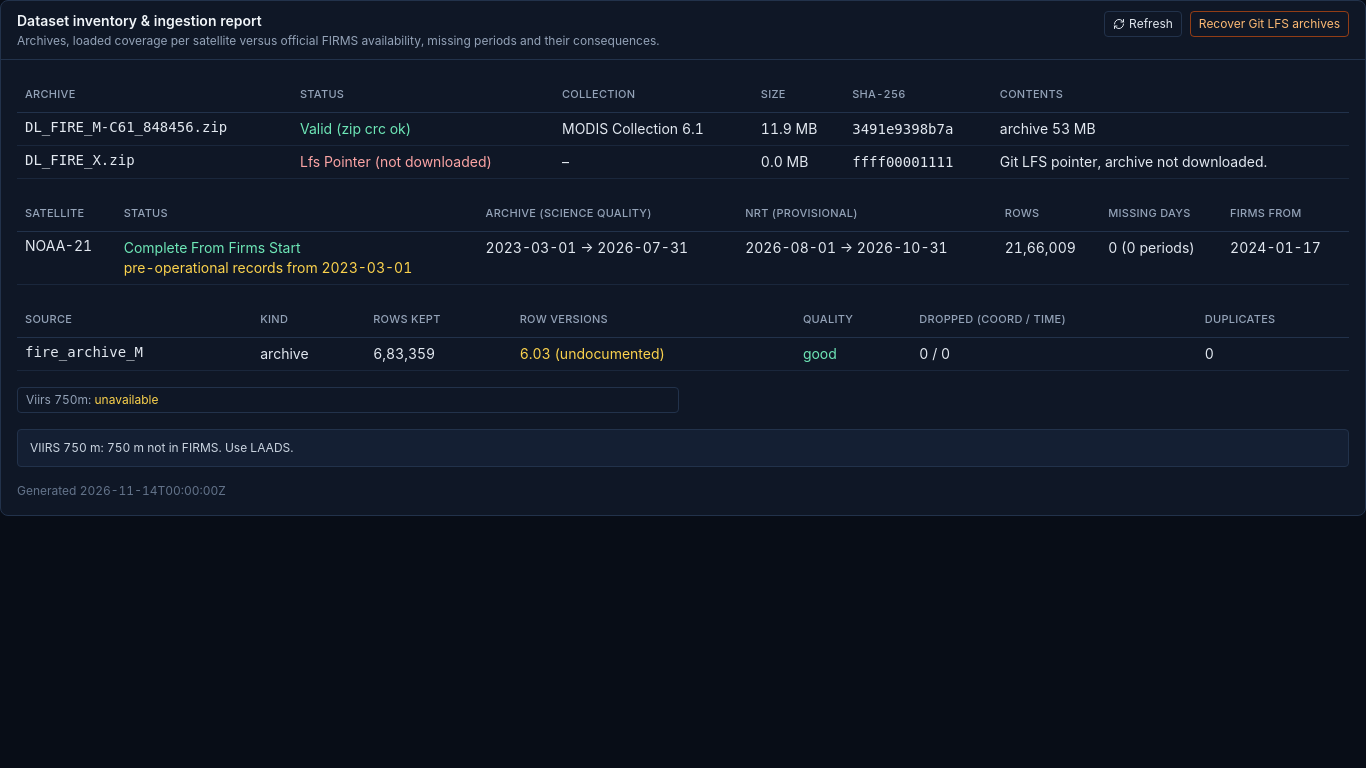
it: dataset inventory › lets an administrator recover LFS archives and reports the per-file outcome
The width and height of the screenshot is (1366, 768).
Click the button "Recover Git LFS archives" at (1269, 24), box [1190, 11, 1349, 37]
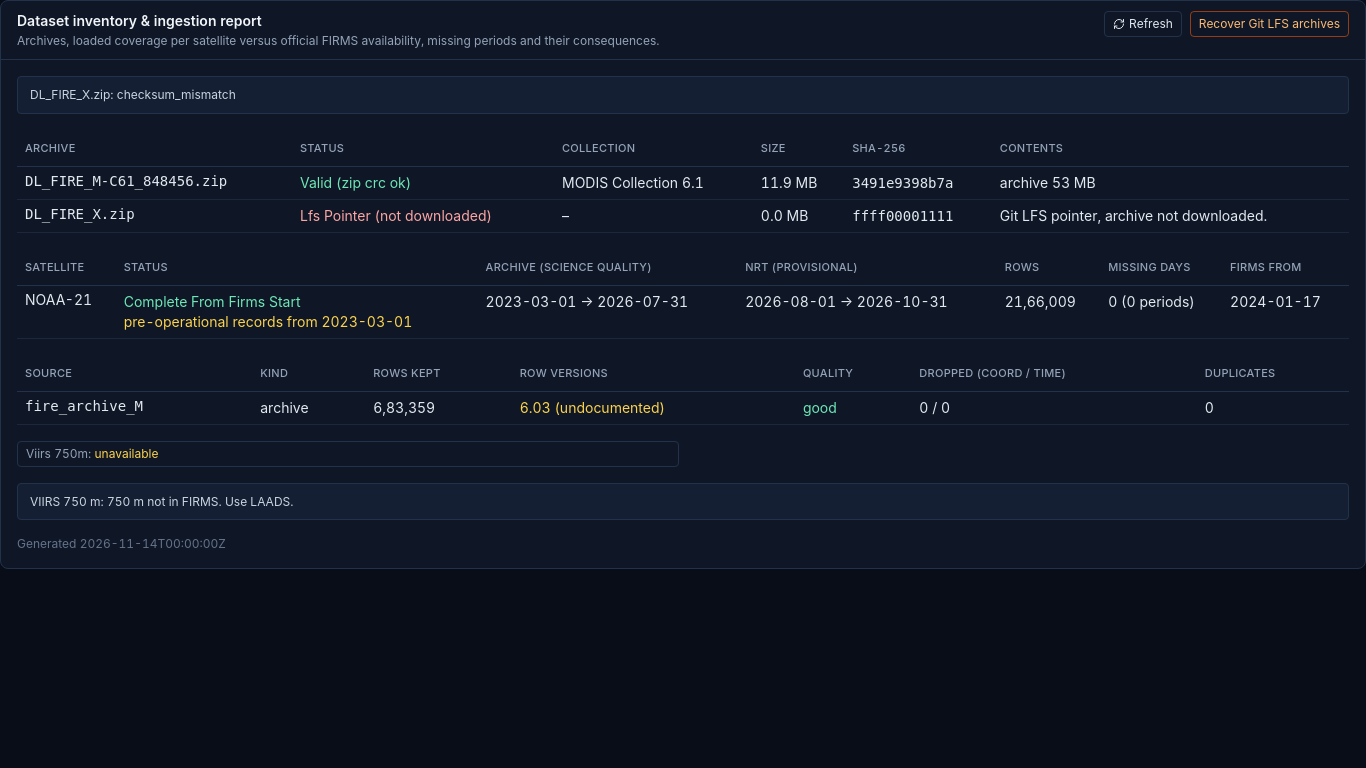
Expected: the text "DL_FIRE_X.zip: checksum_mismatch" is shown, [17, 76, 1349, 114]
